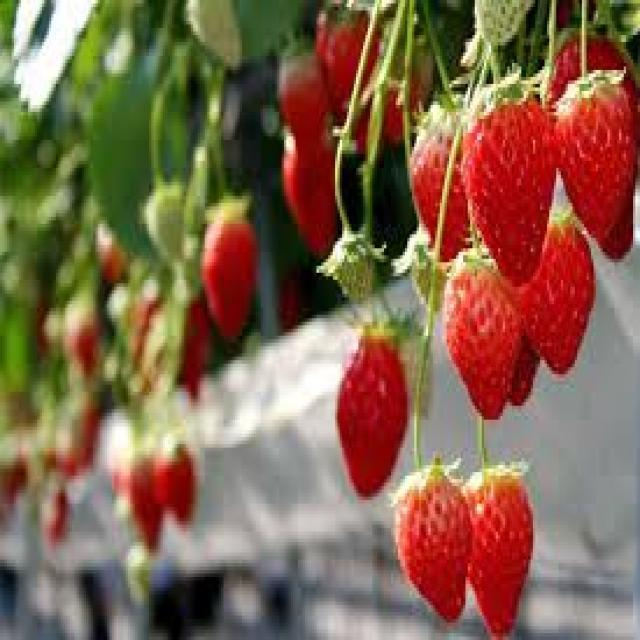Fruta sana: (539, 23, 640, 266), (463, 96, 554, 290), (322, 326, 410, 497), (386, 462, 470, 622), (440, 255, 517, 423), (467, 464, 538, 636), (560, 80, 634, 242), (521, 225, 595, 378), (260, 40, 332, 168), (278, 143, 341, 259), (201, 218, 256, 339), (311, 7, 378, 96), (359, 66, 416, 166), (157, 444, 190, 522)
